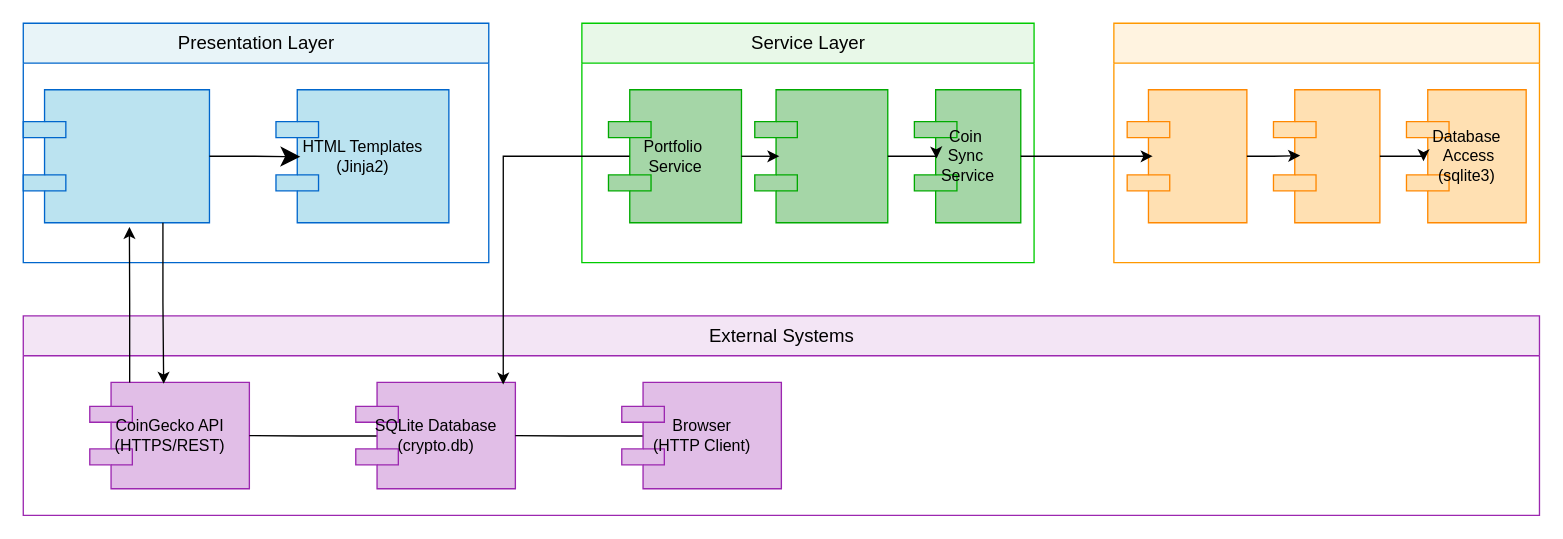
The diagram is 1563 pixels wide and 539 high, and some of its shapes have lost their labels. The shapes that lost their labels are listed below. From the top down, each one's box as (x1, y1, x2, y2) in pixels, then its label:
(22, 88, 209, 223): Flask Web App (app.py)
(753, 88, 888, 223): Market Service
(1126, 88, 1247, 223): Account Model
(1113, 22, 1539, 263): Model & Data Layer
(1272, 88, 1380, 223): Coin Model
